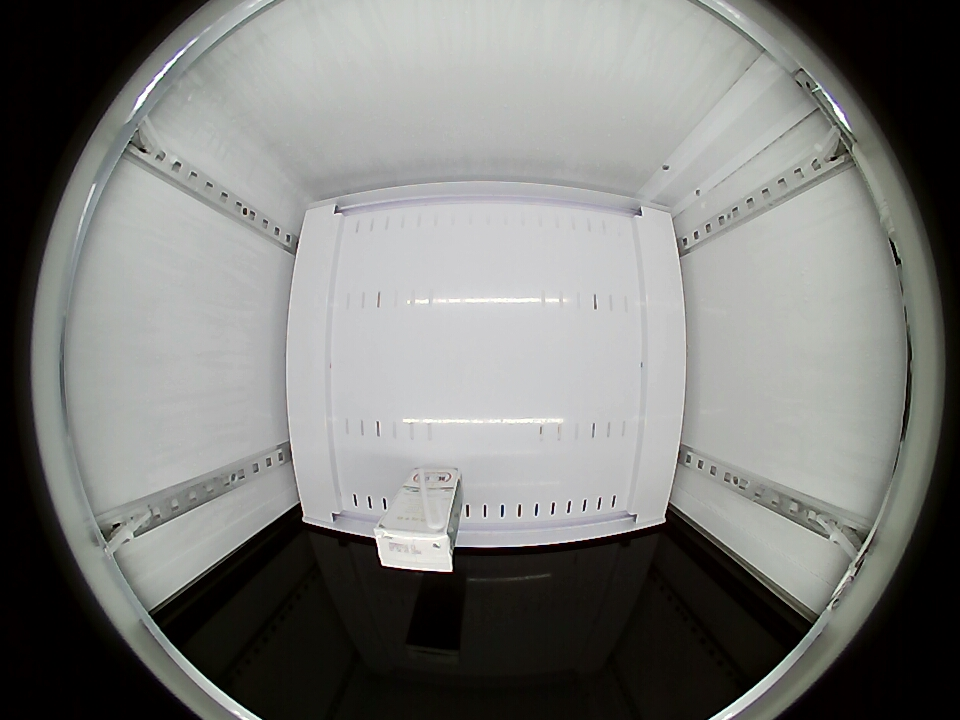jindian: (374, 509, 457, 572)
